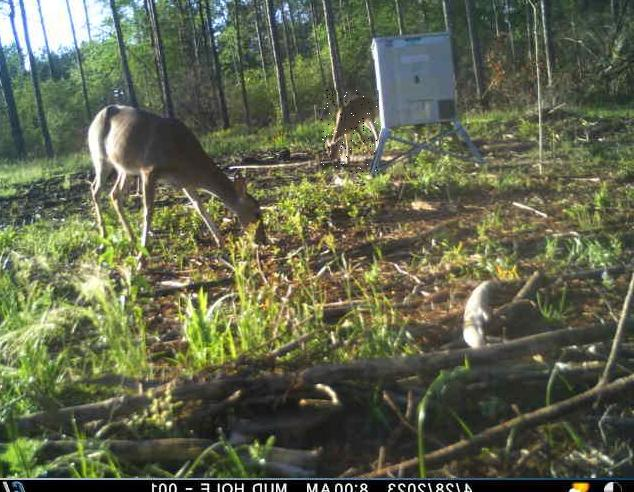Deer: (83, 102, 268, 255), (320, 90, 378, 173)
